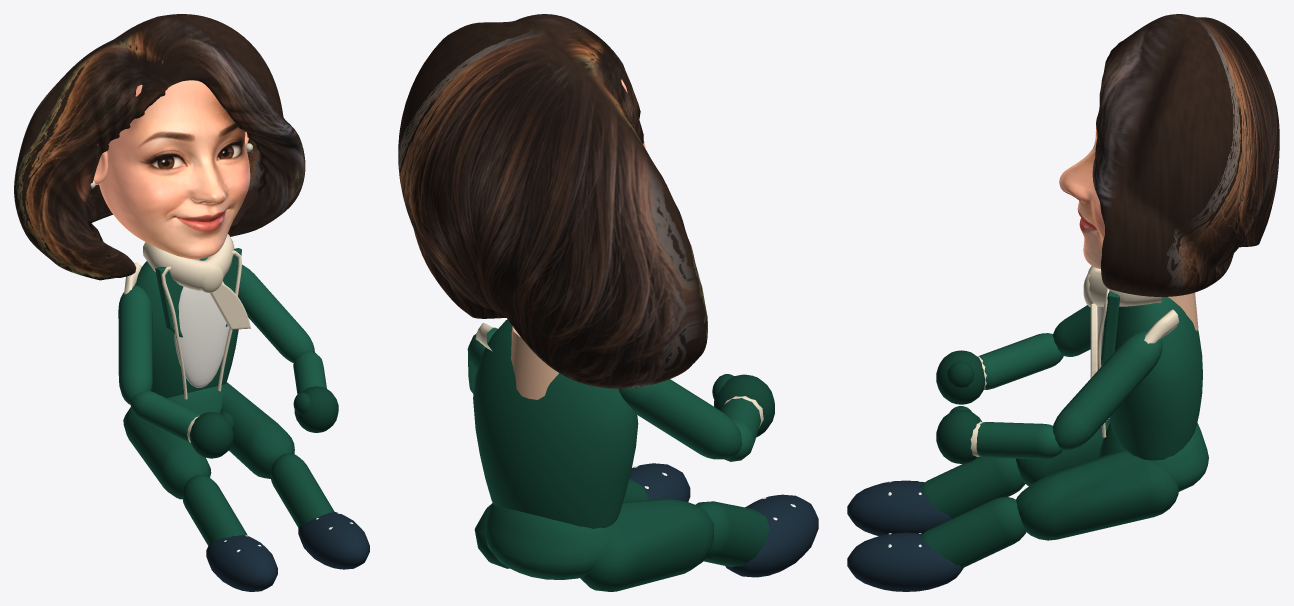
The model's file is vice.glb.
3 views of the same model, side by side, from view 1: azimuth 30°, elevation 25°; view 2: azimuth 150°, elevation 25°; view 3: azimuth 270°, elevation 25° (orthographic). The views are drawn at different scales.
Visible parts, largest first — view 1: PortraitHair_vice, Driver_vice, PortraitVolumeFace, UpperArm_L, UpperArm_R, Forearm_L, Hand_L, Hand_R, Forearm_R; view 2: PortraitHair_vice, Driver_vice, UpperArm_L, Hand_L, Forearm_L, UpperArm_R; view 3: Driver_vice, PortraitHair_vice, UpperArm_R, Forearm_R, Forearm_L, PortraitVolumeFace, Hand_L, Hand_R, UpperArm_L.
Part boxes in pixels (x1,y1,x2,y2): PortraitHair_vice: (14,14,305,280); Driver_vice: (123,234,369,591); PortraitVolumeFace: (99,80,250,259); UpperArm_L: (118,285,152,404); UpperArm_R: (238,265,314,363); Forearm_L: (130,390,200,442); Hand_L: (190,411,235,458); Hand_R: (293,386,338,432); Forearm_R: (293,351,326,394); PortraitHair_vice: (398,14,707,388); Driver_vice: (473,319,818,591); UpperArm_L: (618,379,741,459); Hand_L: (712,374,774,437); Forearm_L: (721,396,763,461); UpperArm_R: (467,327,497,393); Driver_vice: (847,266,1208,591); PortraitHair_vice: (1092,14,1279,296); UpperArm_R: (1053,330,1162,450); Forearm_R: (970,421,1062,459); Forearm_L: (977,333,1063,389); PortraitVolumeFace: (1059,126,1104,268); Hand_L: (936,350,984,404); Hand_R: (936,406,982,463); UpperArm_L: (1053,305,1090,356).
Size of the model in its own units: 1.52 by 2.82 by 2.03.
11 materials, 2 textured.
